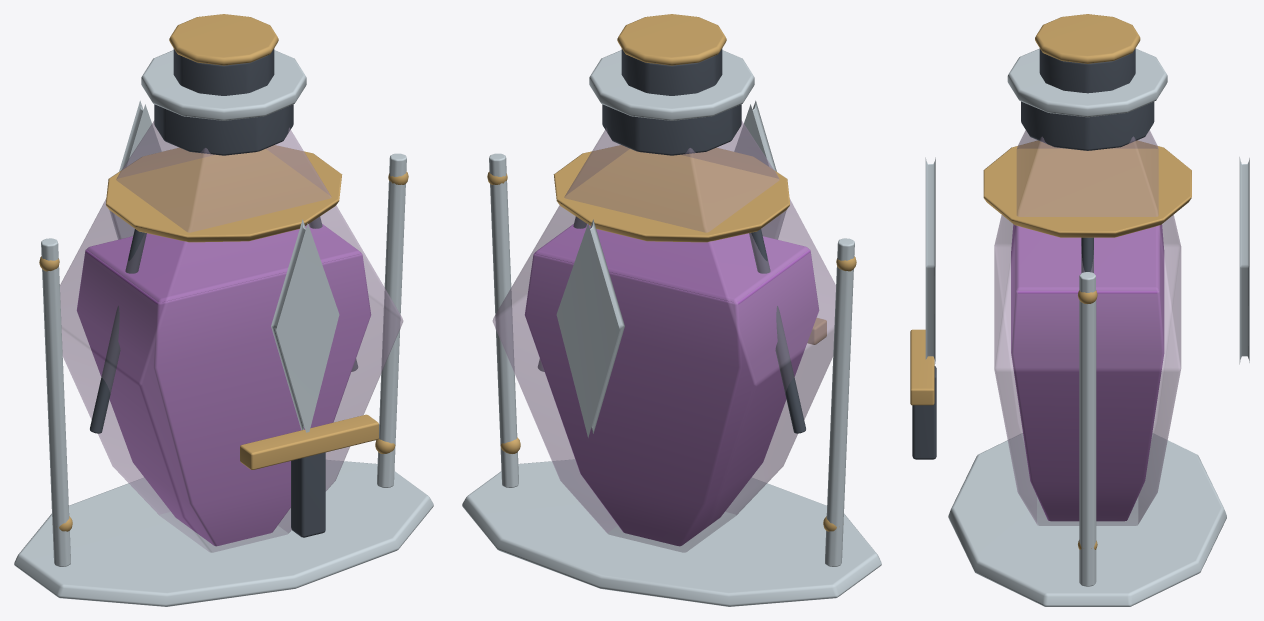
The model's file is SM_Flask_Executioner.fbx.
3 renders of one model, left to right at view 1: azimuth 30°, elevation 25°; view 2: azimuth 150°, elevation 25°; view 3: azimuth 270°, elevation 25°, orthographic. The views are drawn at different scales.
Parts seen in each view (by area): view 1: glass_CutVessel, liquid_ContainedEssence, metal_BaseRing, gold_ShoulderRim, liquid_Meniscus, metal_Blade_Front, metal_MouthLip, metal_CradleRail.001, metal_CradleRail, dark_NeckSleeve, gold_CapInset, gold_Hilt (+4 smaller); view 2: glass_CutVessel, liquid_ContainedEssence, metal_BaseRing, gold_ShoulderRim, liquid_Meniscus, metal_Blade_Back, metal_MouthLip, metal_CradleRail.001, metal_CradleRail, dark_NeckSleeve, gold_CapInset, dark_SealedStopper (+2 smaller); view 3: glass_CutVessel, metal_BaseRing, liquid_ContainedEssence, gold_ShoulderRim, liquid_Meniscus, metal_CradleRail.001, metal_MouthLip, dark_NeckSleeve, gold_CapInset, dark_SealedStopper, metal_Blade_Back, metal_Blade_Front (+3 smaller).
Part boxes in pixels (x1,y1,x2,y2): glass_CutVessel: [60, 121, 403, 552]; liquid_ContainedEssence: [77, 249, 370, 546]; metal_BaseRing: [14, 460, 433, 606]; gold_ShoulderRim: [106, 145, 342, 242]; liquid_Meniscus: [87, 224, 360, 302]; metal_Blade_Front: [271, 219, 339, 432]; metal_MouthLip: [141, 50, 306, 120]; metal_CradleRail.001: [377, 153, 406, 487]; metal_CradleRail: [41, 238, 70, 566]; dark_NeckSleeve: [154, 104, 293, 155]; gold_CapInset: [169, 14, 278, 65]; gold_Hilt: [240, 414, 378, 469]; glass_CutVessel: [492, 121, 835, 552]; liquid_ContainedEssence: [525, 249, 818, 546]; metal_BaseRing: [462, 459, 881, 606]; gold_ShoulderRim: [553, 145, 789, 242]; liquid_Meniscus: [535, 224, 808, 302]; metal_Blade_Back: [556, 219, 624, 437]; metal_MouthLip: [589, 50, 754, 120]; metal_CradleRail.001: [489, 153, 518, 487]; metal_CradleRail: [825, 238, 854, 566]; dark_NeckSleeve: [602, 104, 741, 155]; gold_CapInset: [617, 14, 726, 65]; dark_SealedStopper: [621, 48, 722, 95]; glass_CutVessel: [994, 130, 1181, 525]; metal_BaseRing: [948, 433, 1226, 606]; liquid_ContainedEssence: [1011, 224, 1164, 521]; gold_ShoulderRim: [983, 140, 1191, 237]; liquid_Meniscus: [1016, 226, 1158, 290]; metal_CradleRail.001: [1079, 272, 1096, 586]; metal_MouthLip: [1007, 48, 1167, 117]; dark_NeckSleeve: [1021, 101, 1154, 150]; gold_CapInset: [1035, 14, 1140, 63]; dark_SealedStopper: [1039, 48, 1135, 93]; metal_Blade_Back: [1239, 157, 1249, 364]; metal_Blade_Front: [925, 157, 935, 363].
Bounding box in the file's own units: 38.09 × 49.5 × 30.8.
